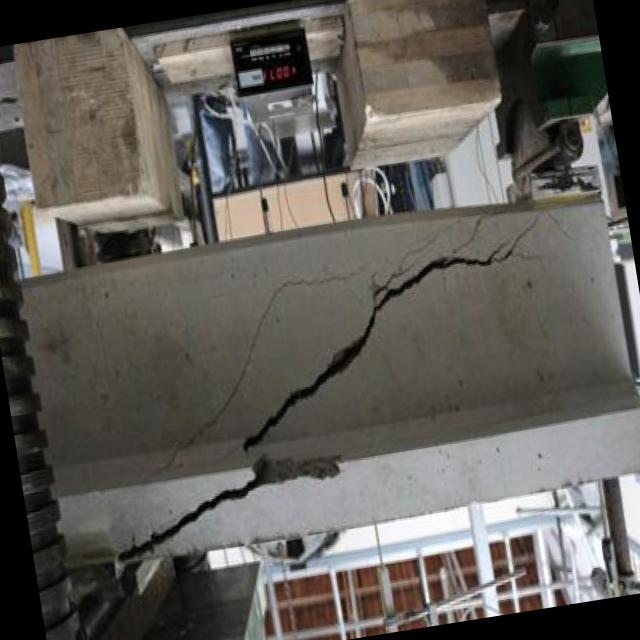crack: (244, 256, 495, 456), (114, 456, 340, 562)
